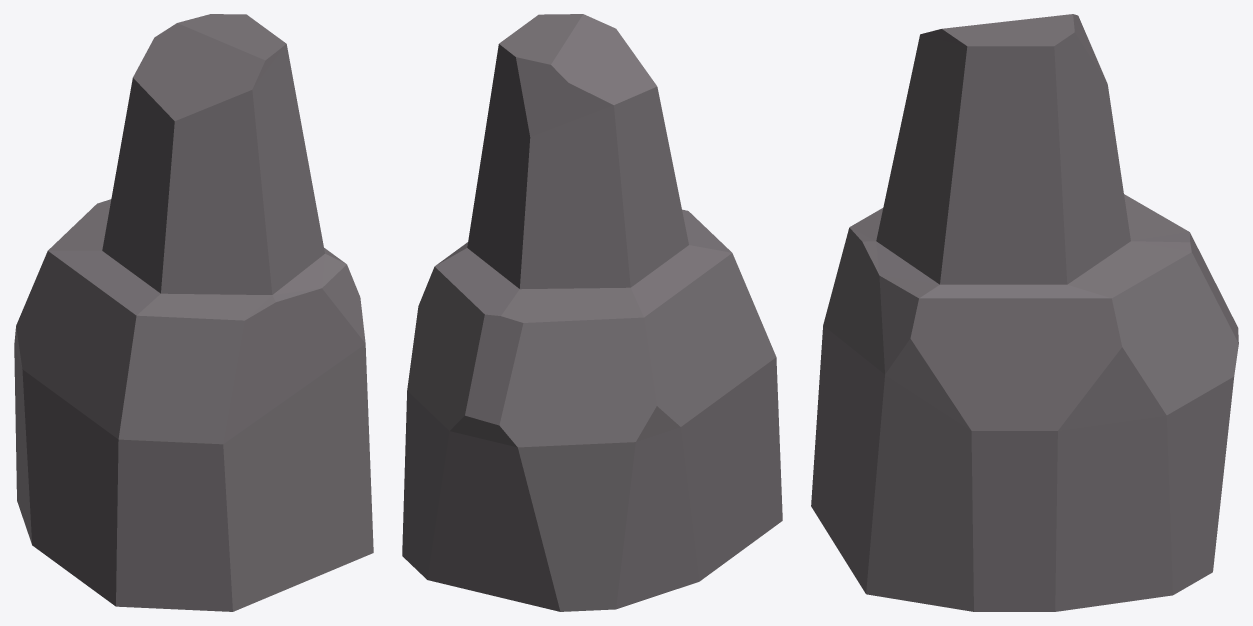
The model's file is Rock_Round_l_05.fbx.
The picture shows the model from 3 angles, left to right: view 1: azimuth 30°, elevation 25°; view 2: azimuth 150°, elevation 25°; view 3: azimuth 270°, elevation 25°; orthographic projection. The views are drawn at different scales.
Parts seen in each view (by area): view 1: Rock_Round_l_05; view 2: Rock_Round_l_05; view 3: Rock_Round_l_05.
Boxes of the visible parts, box(x1,y1,x2,y2) form: Rock_Round_l_05: box(14, 14, 373, 611); Rock_Round_l_05: box(402, 14, 782, 611); Rock_Round_l_05: box(811, 14, 1238, 611).
Size of the model in its own units: 128 by 211 by 155.
